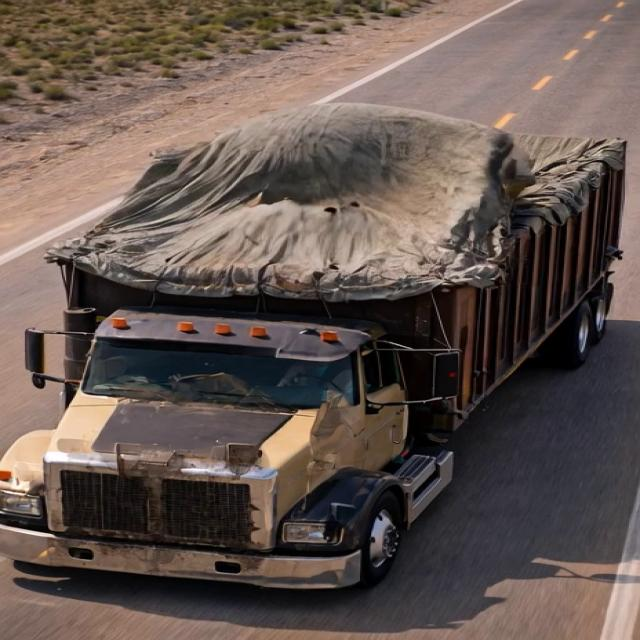Box: (71, 102, 628, 286)
Truck: (0, 86, 639, 584)
